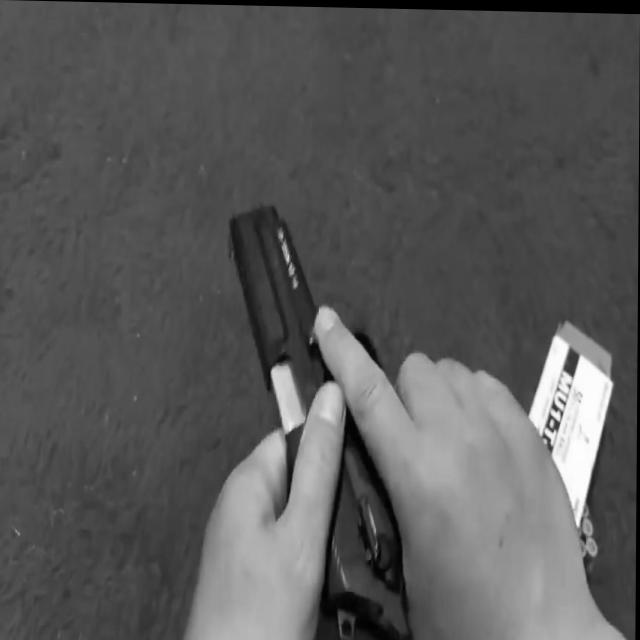handgun: (229, 185, 407, 638)
